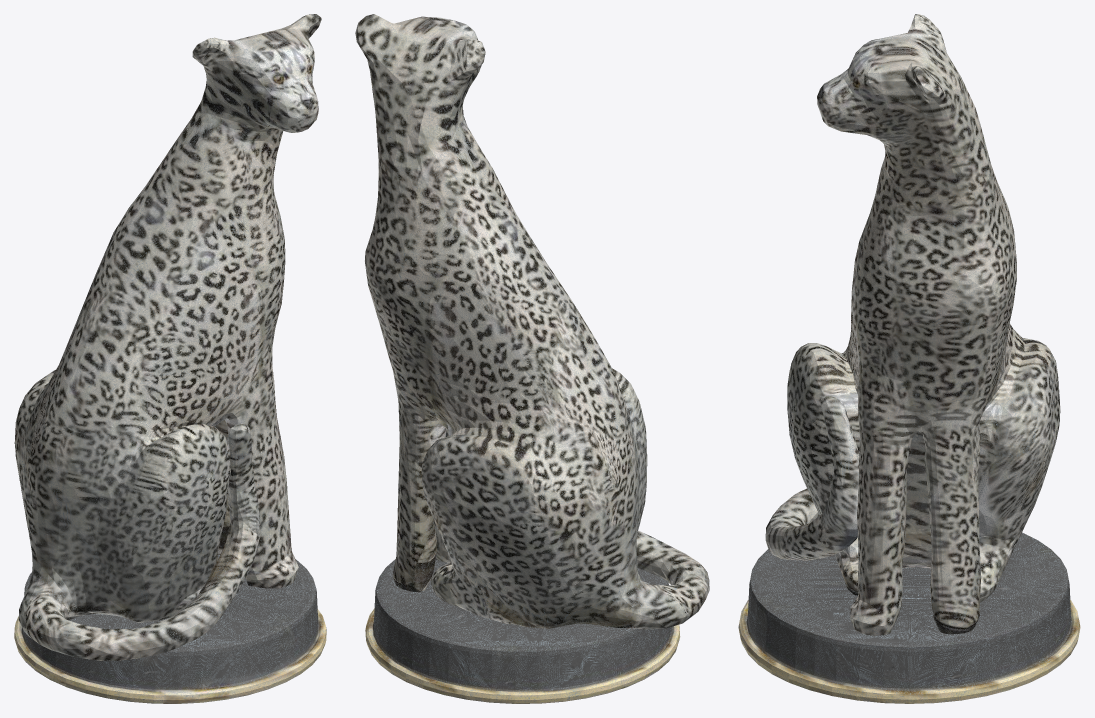
3 renders of one model, left to right at view 1: azimuth 30°, elevation 25°; view 2: azimuth 150°, elevation 25°; view 3: azimuth 270°, elevation 25°, orthographic. The views are drawn at different scales.
Parts seen in each view (by area): view 1: skpC7F2 (×2); view 2: skpC7F2 (×2); view 3: skpC7F2 (×2).
Boxes of the visible parts, x1,y1,x2,y2 form: skpC7F2 (×2): [14, 14, 326, 703]; skpC7F2 (×2): [355, 14, 709, 703]; skpC7F2 (×2): [738, 14, 1080, 703].
Bounding box in the file's own units: 11.28 × 9.74 × 20.19.
